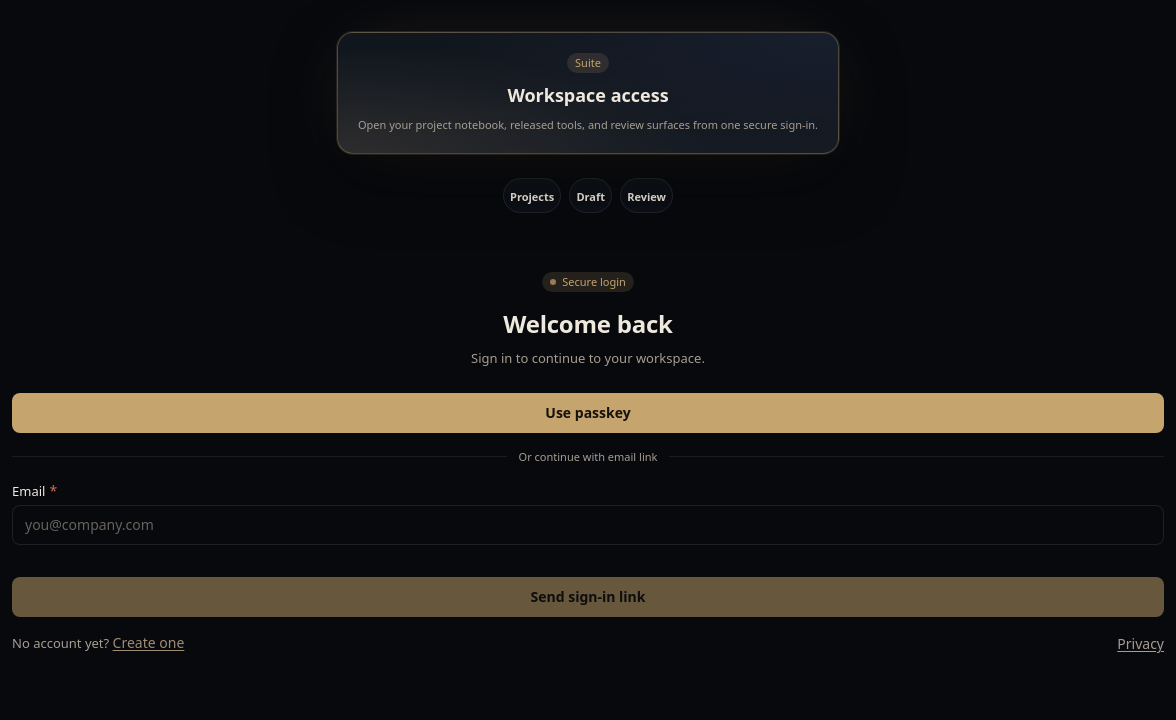
LoginPage › shows only the inline login error when passkey verification fails
The image size is (1176, 720).
Click the button "Use passkey" at (588, 413), box [12, 393, 1164, 433]
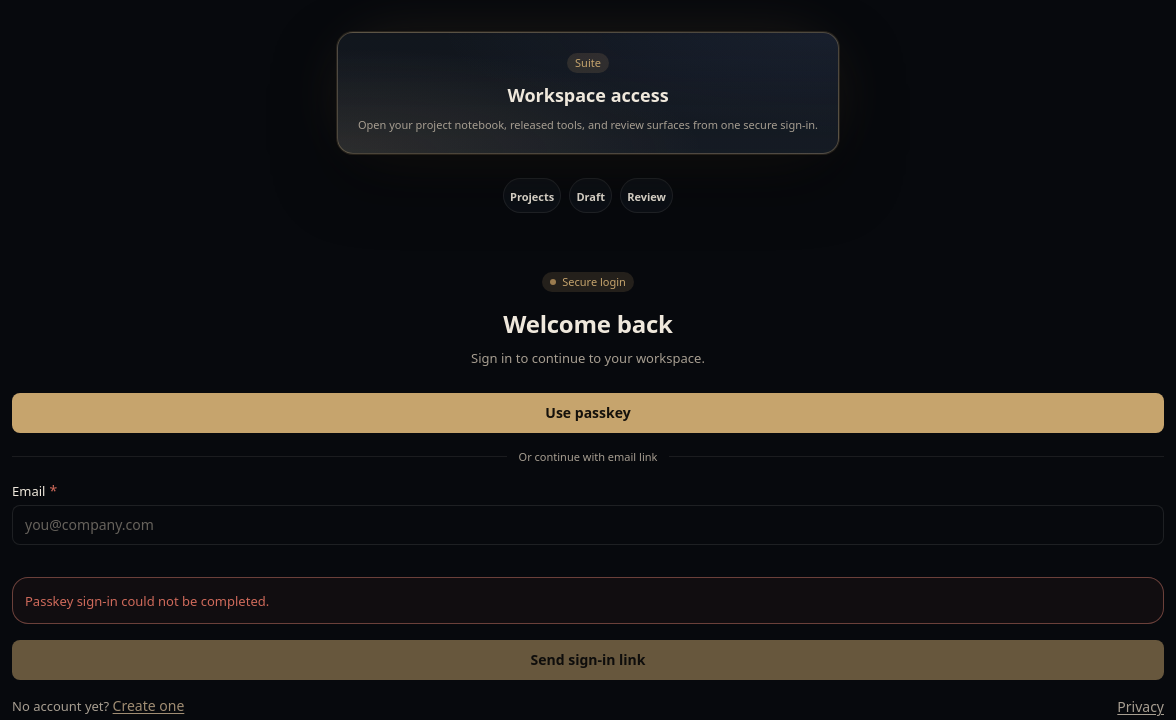
expect the text "Passkey sign-in could not be completed." is shown: met, box [25, 592, 269, 610]
